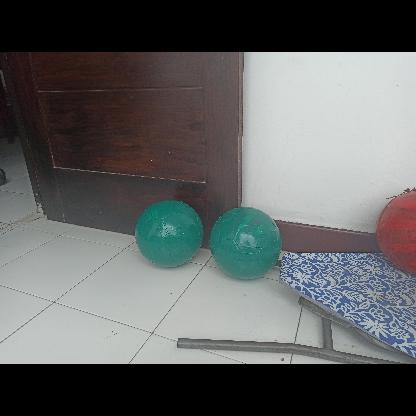green_ball: (206, 206, 282, 280), (134, 198, 204, 268)
